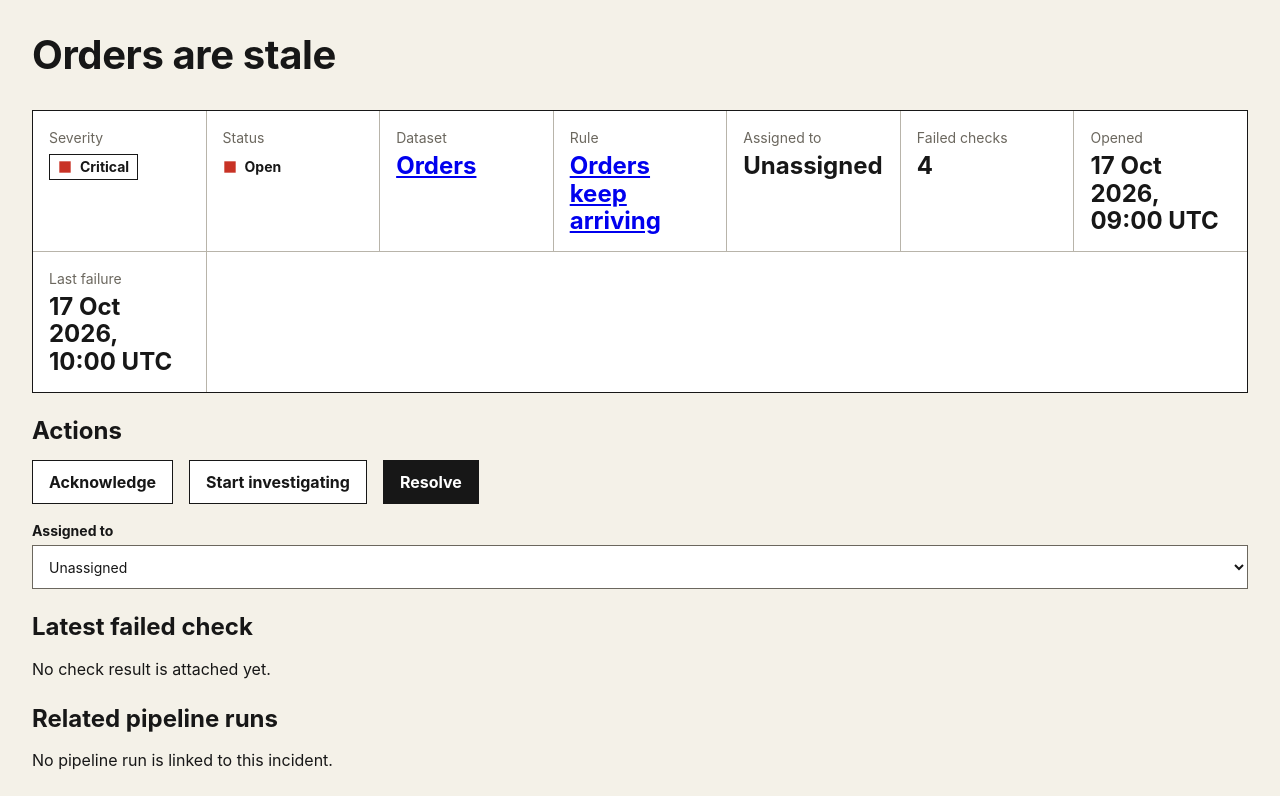
Incident actions › refuses an empty resolution note, then resolves with one
Click the button "Resolve" at (431, 482), box [383,460,479,504]
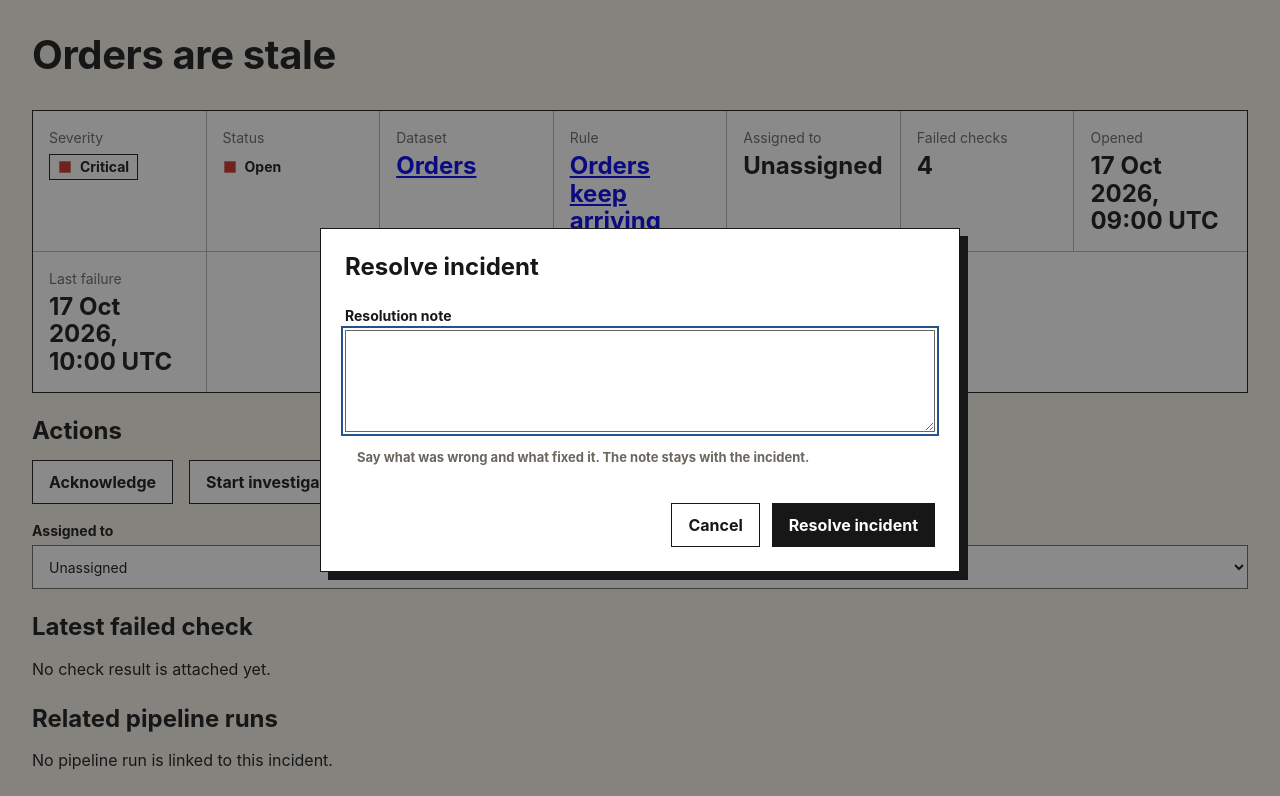
Click the button "Resolve incident" at (853, 525), box [772,503,935,547]
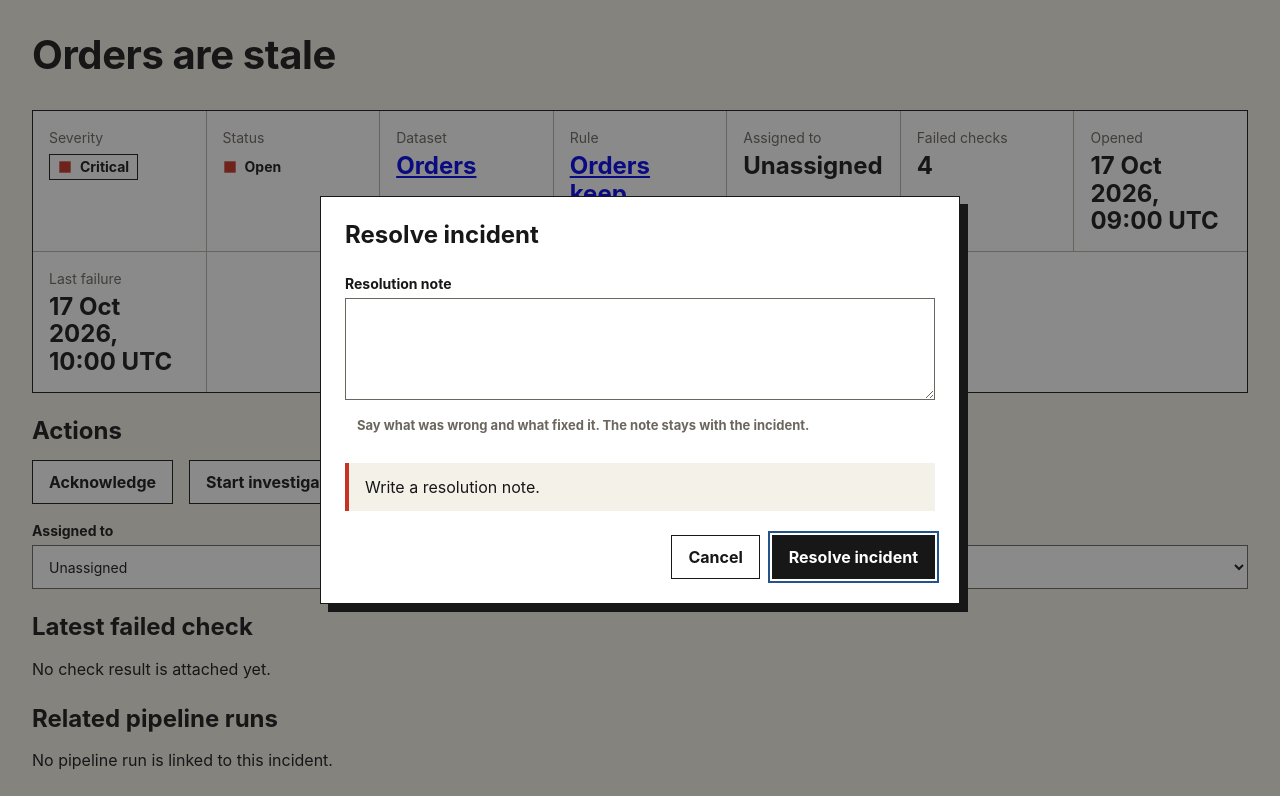
expect the message reads "Write a resolution note.": met, box [365,477,540,497]
Type "  Restarted the loader " into the text box labelled "Resolution note" at (640, 348), box [345,298,935,400]
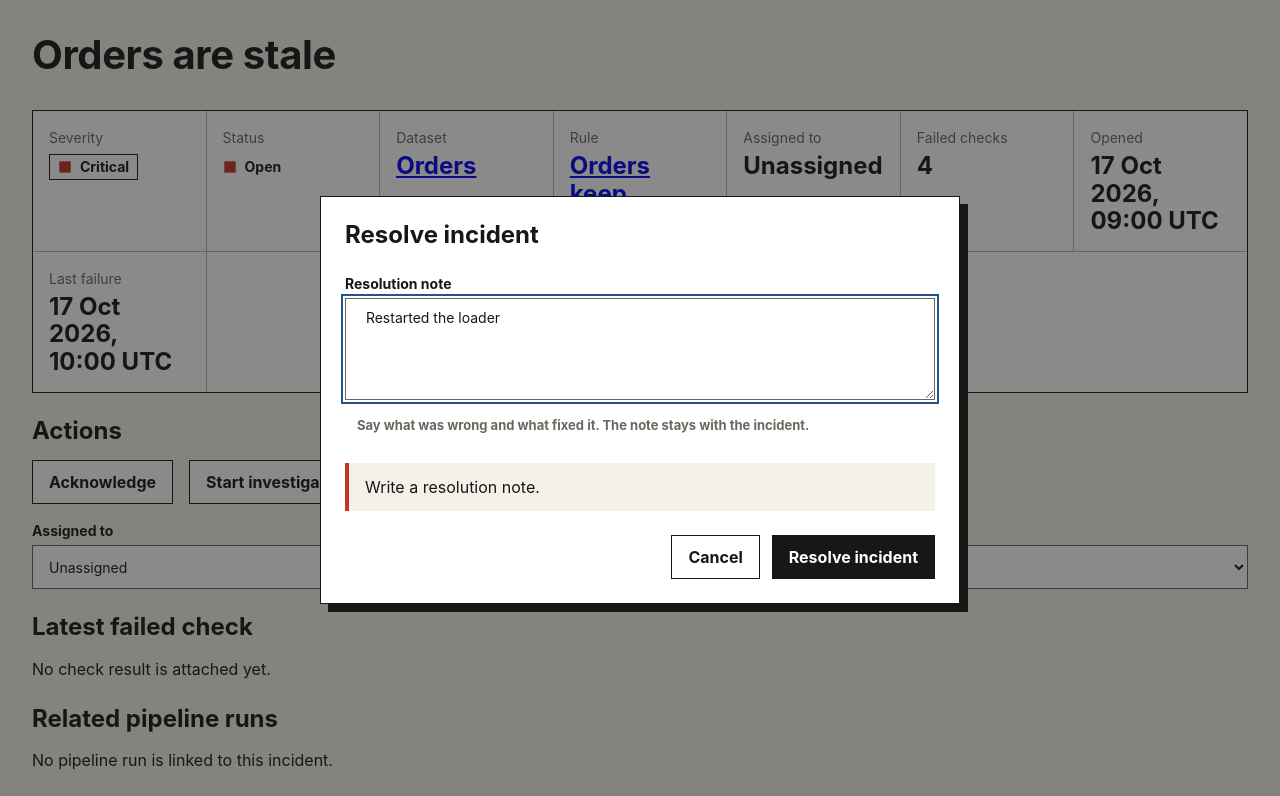
Click the button "Resolve incident" at (853, 557), box [772,535,935,579]
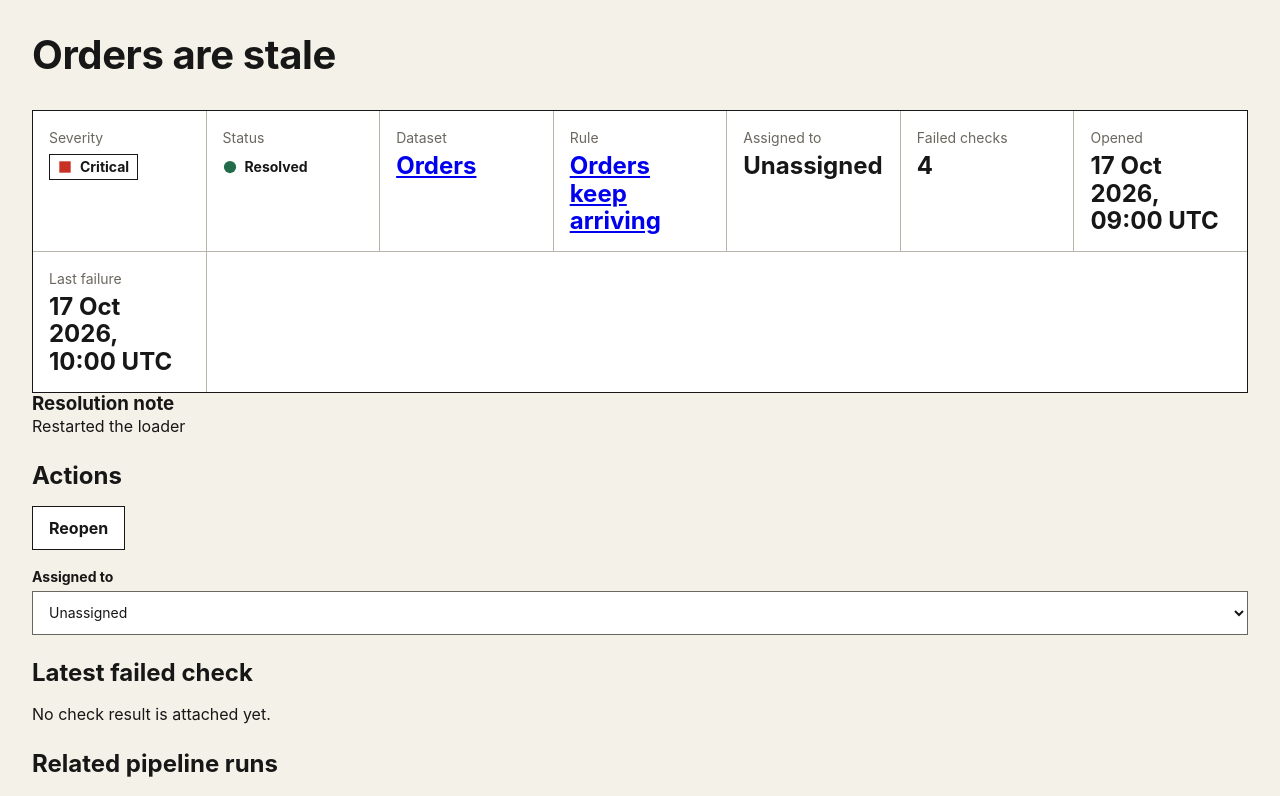
expect the text "Restarted the loader" is shown: met, box [32,416,185,436]
